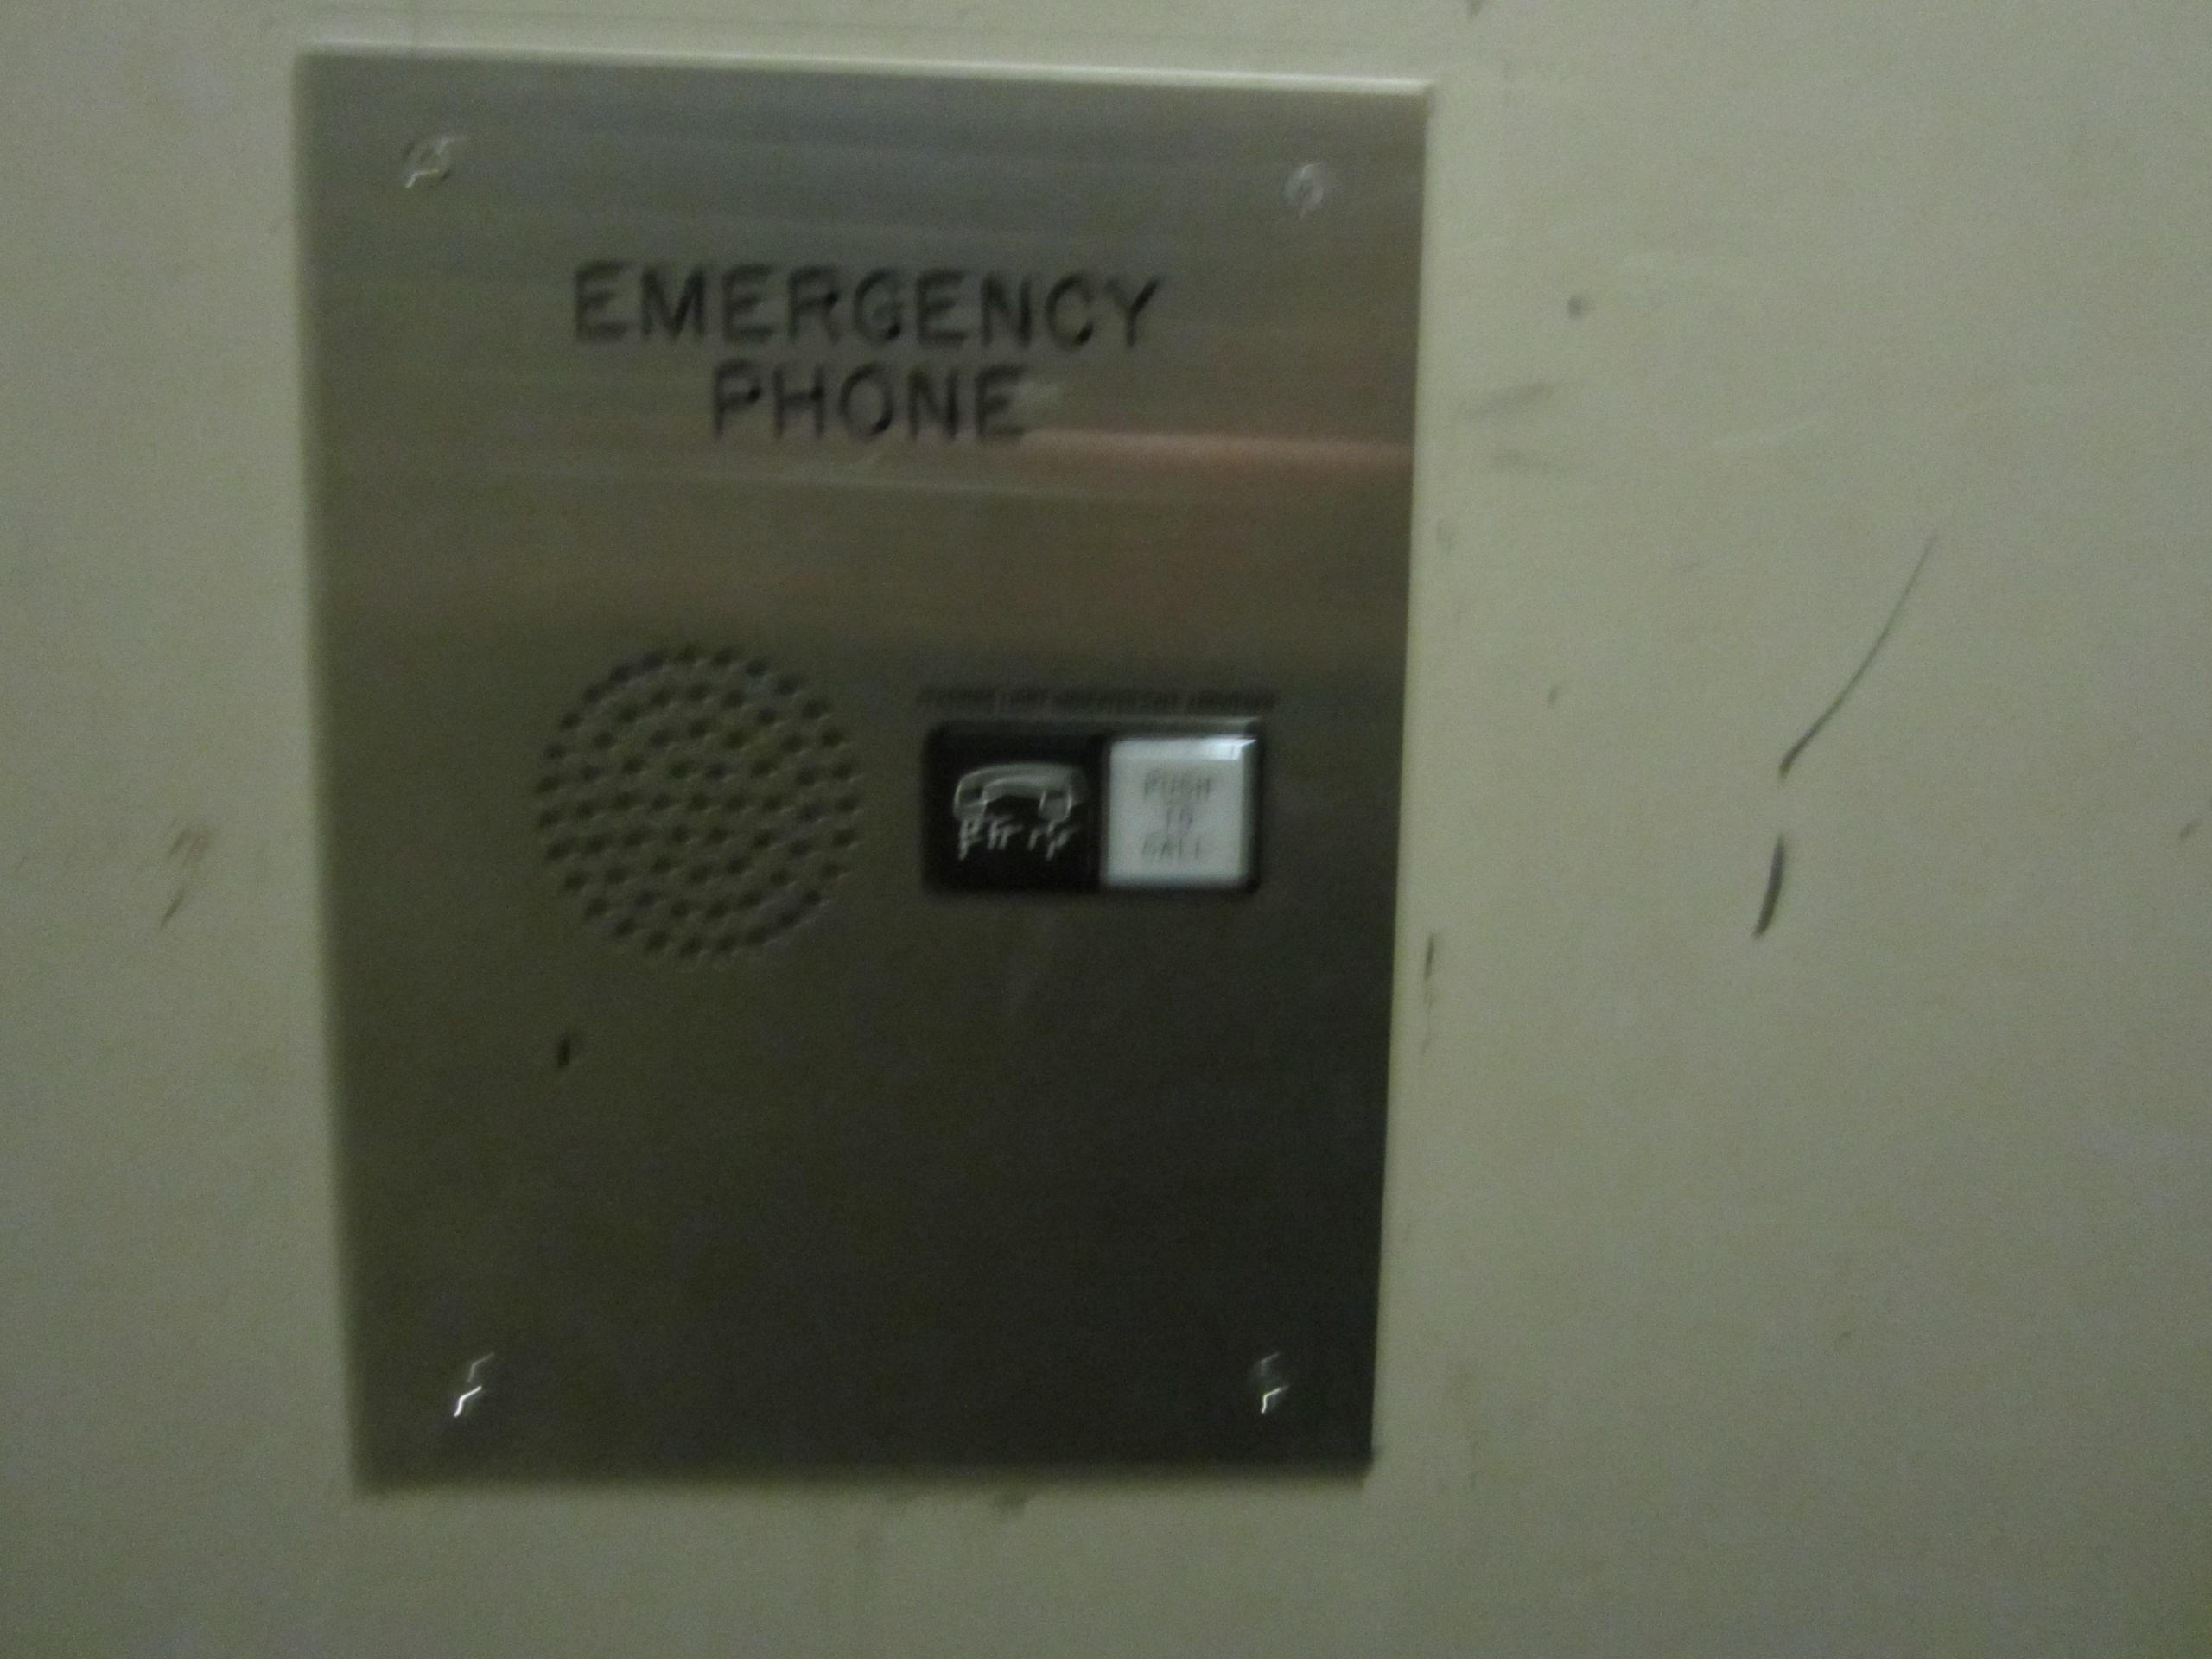call: (914, 711, 1275, 906)
